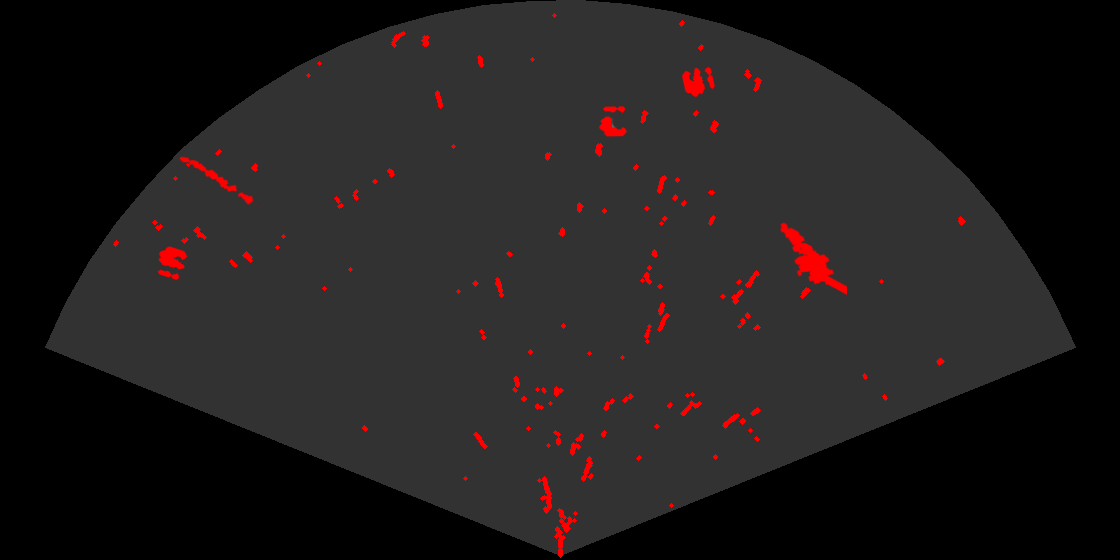ball: (680, 65, 716, 99), (156, 245, 189, 281), (598, 105, 629, 138)
chain: (178, 155, 264, 212)
frogman: (779, 221, 847, 296)
